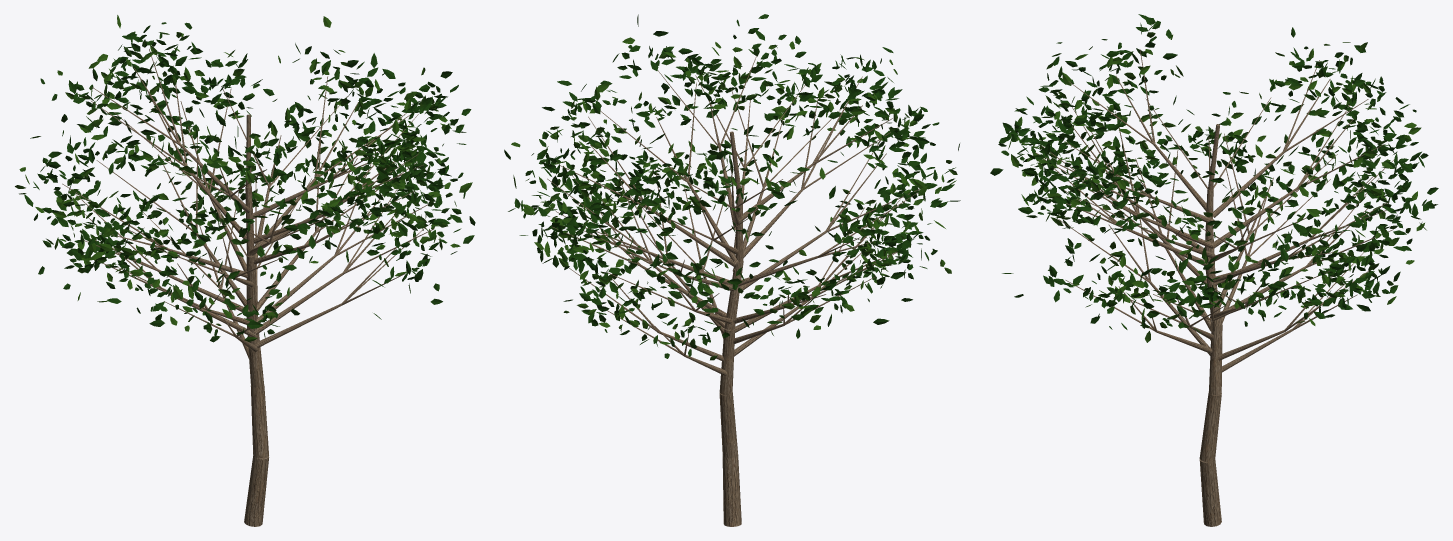
The model's file is broadleaf_1.obj.
The picture shows the model from 3 angles, left to right: view 1: azimuth 30°, elevation 25°; view 2: azimuth 150°, elevation 25°; view 3: azimuth 270°, elevation 25°; orthographic projection. The views are drawn at different scales.
Parts seen in each view (by area): view 1: Leaf_Green, Tree_Bark, Leaf_Light; view 2: Leaf_Green, Tree_Bark, Leaf_Light; view 3: Leaf_Green, Tree_Bark, Leaf_Light.
Part boxes in pixels (x1,y1,x2,y2): Leaf_Green: (24, 22, 475, 342); Tree_Bark: (62, 49, 435, 526); Leaf_Light: (15, 15, 472, 341); Leaf_Green: (504, 14, 960, 358); Tree_Bark: (547, 55, 920, 526); Leaf_Light: (511, 37, 957, 360); Leaf_Green: (990, 14, 1438, 333); Tree_Bark: (1033, 49, 1394, 526); Leaf_Light: (1008, 25, 1437, 342).
Size of the model in its own units: 10.05 by 10.89 by 9.75.
Materials: 3 (1 with a texture image).
